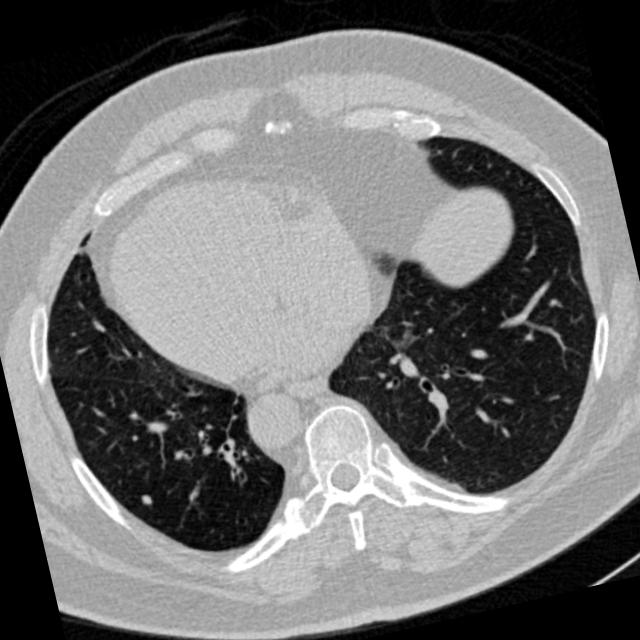nodule: (133, 482, 163, 512)
